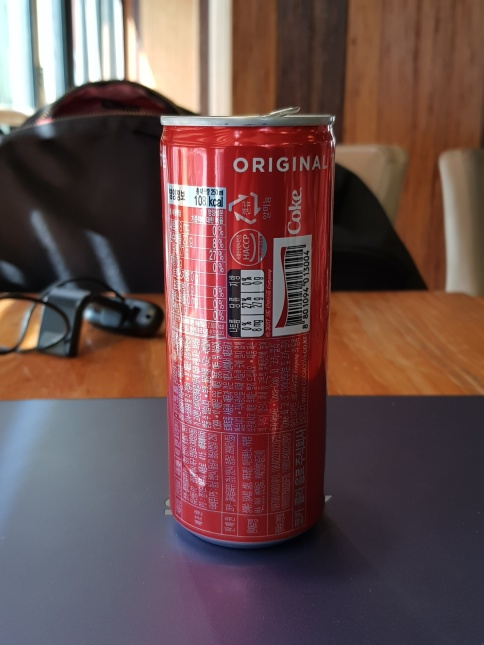Can: (151, 102, 335, 559)
